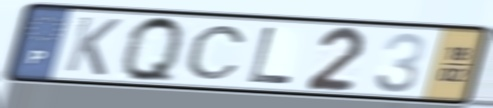2: (304, 24, 370, 94)
3: (374, 31, 428, 94)
C: (183, 23, 250, 81)
K: (61, 14, 125, 78)
L: (244, 25, 296, 87)
Q: (119, 13, 186, 87)
